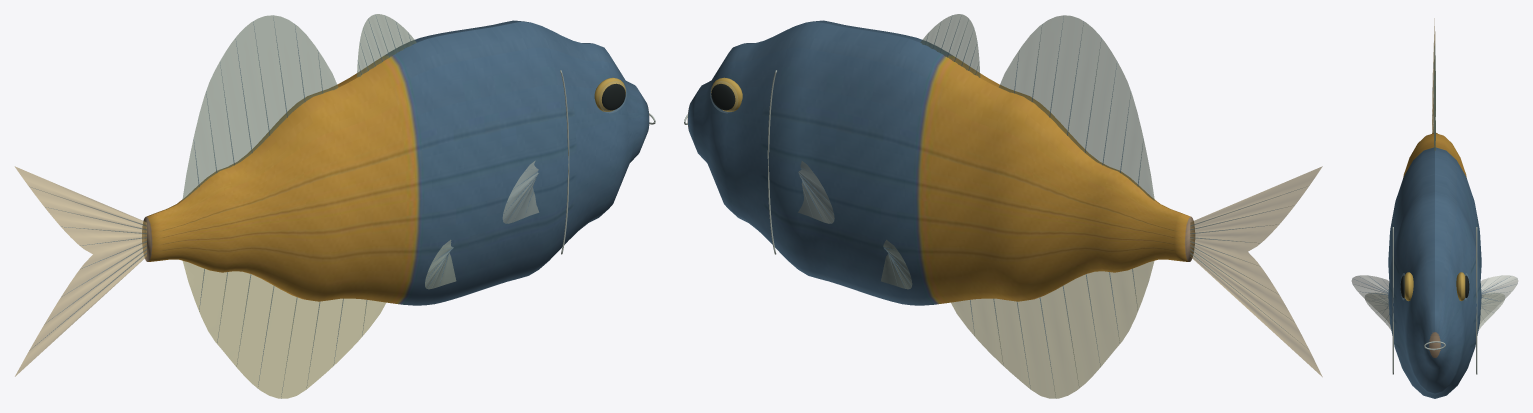
File: rainbow-mobile.glb
The picture shows the model from 3 angles, left to right: view 1: azimuth 30°, elevation 25°; view 2: azimuth 150°, elevation 25°; view 3: azimuth 270°, elevation 25°; orthographic projection. The views are drawn at different scales.
Visible parts, largest first — view 1: skin, dorsal, anal, tail, dorsal-ray, pectoral-left, pelvic-left; view 2: skin, dorsal, anal, tail, dorsal-ray, pectoral-left, pelvic-left; view 3: skin, pectoral-left, pelvic-left, operculum, eye-iris--1, dorsal-ray, tail, dorsal, eye-pupil--1.
Boxes of the visible parts, x1,y1,x2,y2 form: skin: (142,20,649,305); dorsal: (182,14,416,200); anal: (183,261,385,398); tail: (15,166,146,376); dorsal-ray: (34,17,538,398); pectoral-left: (502,161,538,223); pelvic-left: (425,240,456,289); skin: (687,20,1194,305); dorsal: (920,14,1154,200); anal: (951,261,1154,398); tail: (1190,166,1322,376); dorsal-ray: (798,16,1302,388); pectoral-left: (798,161,834,223); pelvic-left: (881,240,912,289); skin: (1388,133,1481,398); pectoral-left: (1351,275,1518,324); pelvic-left: (1365,293,1504,329); operculum: (1392,227,1477,374); eye-iris--1: (1404,272,1465,301); dorsal-ray: (1354,63,1517,320); tail: (1432,18,1435,133); dorsal: (1434,44,1435,150); eye-pupil--1: (1400,275,1469,297).
Size of the model in its own units: 0.6032 by 0.3523 by 0.1718.
11 materials, 1 textured.
